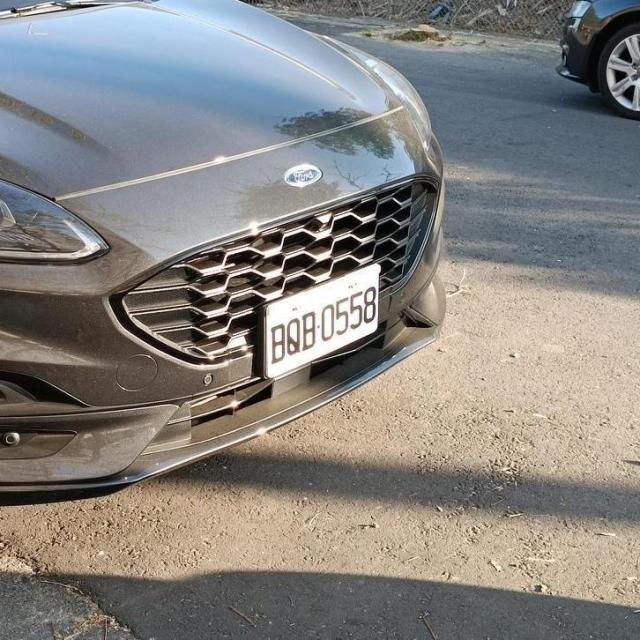W: (251, 258, 387, 389)
